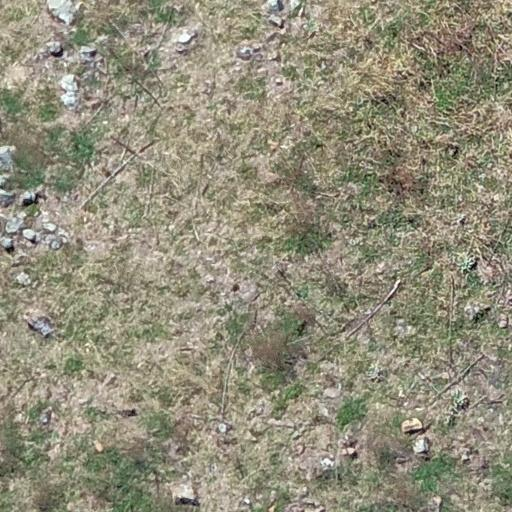stone: (42, 0, 77, 28), (170, 483, 199, 507), (400, 418, 424, 434), (43, 39, 65, 54), (62, 74, 78, 94), (18, 190, 38, 205), (6, 218, 26, 232), (413, 439, 429, 456), (62, 96, 80, 108), (177, 32, 196, 43), (82, 44, 94, 60), (343, 446, 357, 458), (17, 272, 31, 284), (290, 0, 304, 12), (270, 16, 286, 26), (22, 229, 34, 241), (44, 223, 57, 233), (4, 238, 14, 251), (268, 0, 280, 10), (50, 240, 62, 249)
